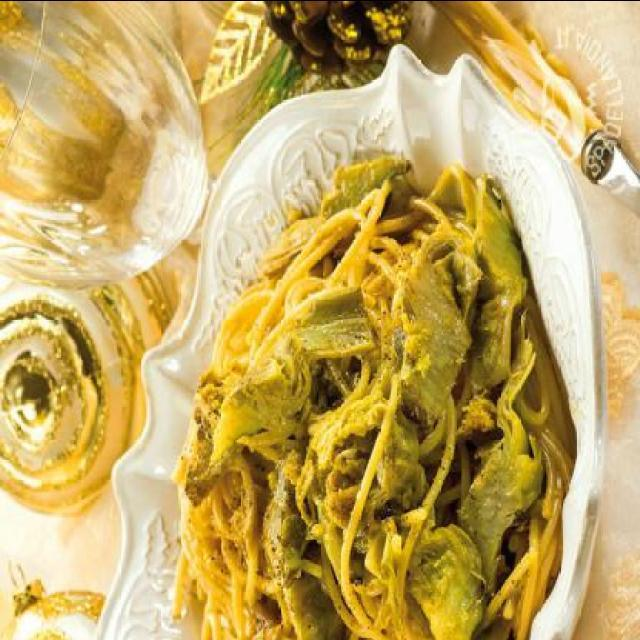Pasta with carbonara sauce: (160, 101, 623, 633)
